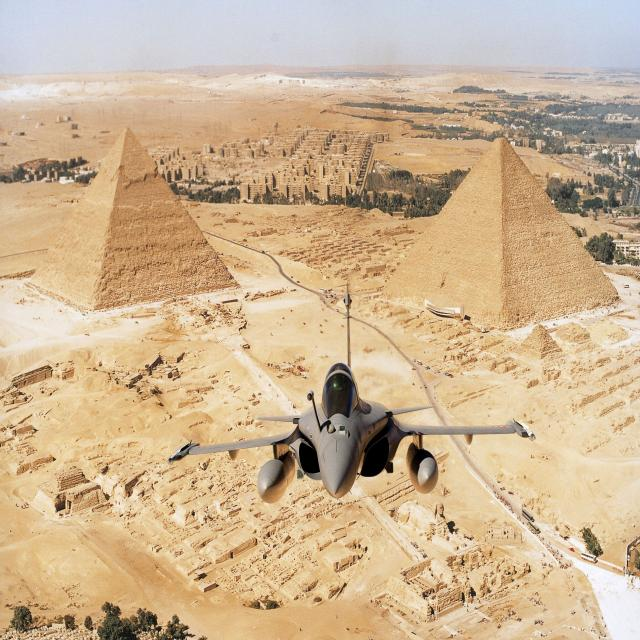MIL_Plane: (167, 282, 536, 504)
